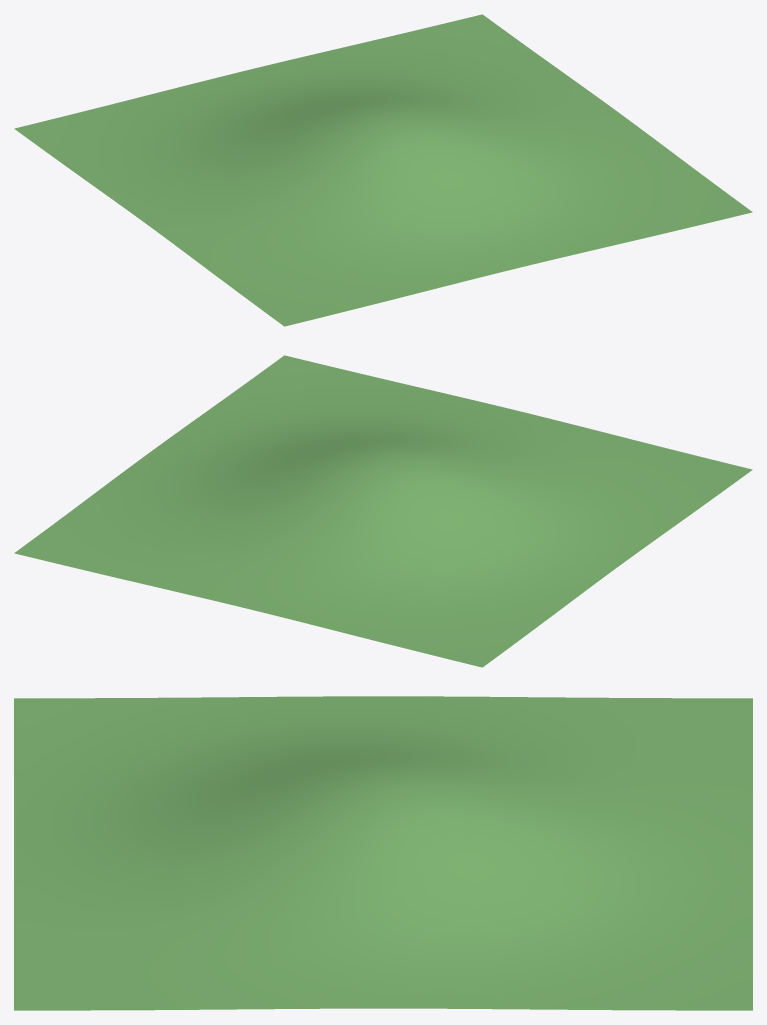
The model's file is map_03.glb.
3 renders of one model, top to bottom at view 1: azimuth 30°, elevation 25°; view 2: azimuth 150°, elevation 25°; view 3: azimuth 270°, elevation 25°, orthographic. The views are drawn at different scales.
Visible parts, largest first — view 1: WALKABLE_map_02; view 2: WALKABLE_map_02; view 3: WALKABLE_map_02.
Part boxes in pixels (left/top/right/bottom): WALKABLE_map_02: left=14, top=14, right=752, bottom=326; WALKABLE_map_02: left=14, top=355, right=752, bottom=667; WALKABLE_map_02: left=14, top=696, right=752, bottom=1010.
Size of the model in its own units: 44 by 4 by 44.
